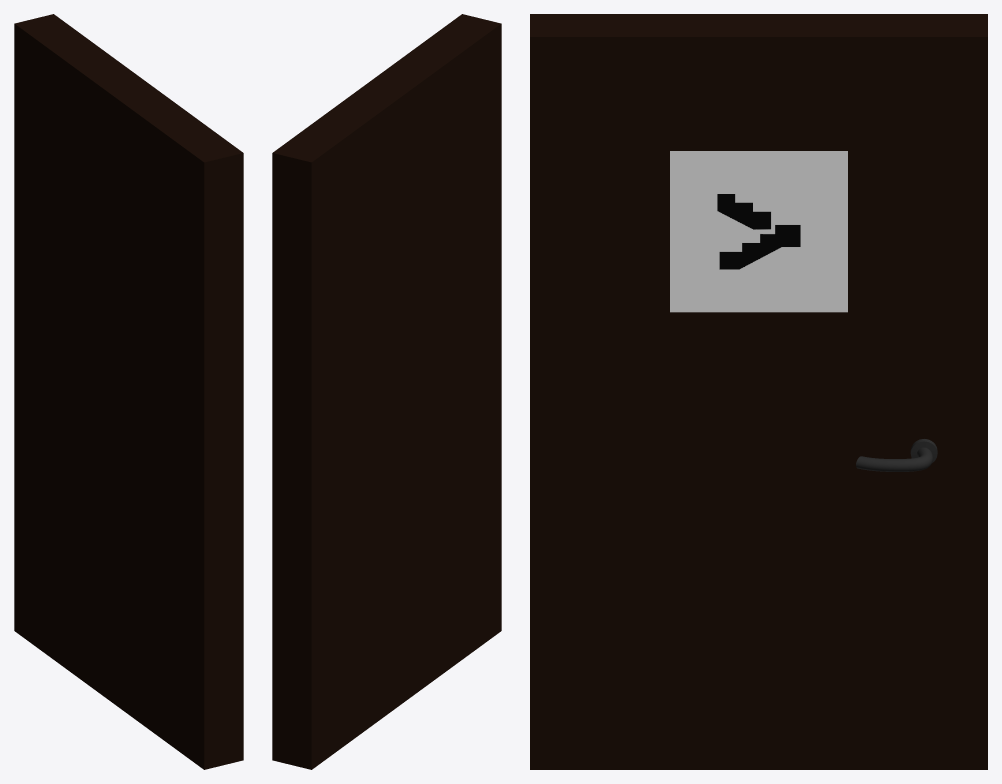
Rendered from Door_Stair.dae.
The picture shows the model from 3 angles, left to right: view 1: azimuth 30°, elevation 25°; view 2: azimuth 150°, elevation 25°; view 3: azimuth 270°, elevation 25°; orthographic projection. The views are drawn at different scales.
Parts seen in each view (by area): view 1: pPlane2; view 2: pPlane2; view 3: pPlane2.
Part boxes in pixels (x1,y1,x2,y2): pPlane2: (14,14,243,769); pPlane2: (272,14,501,769); pPlane2: (530,14,987,769).
Bounding box in the file's own units: 2.97 × 24.65 × 13.96.
